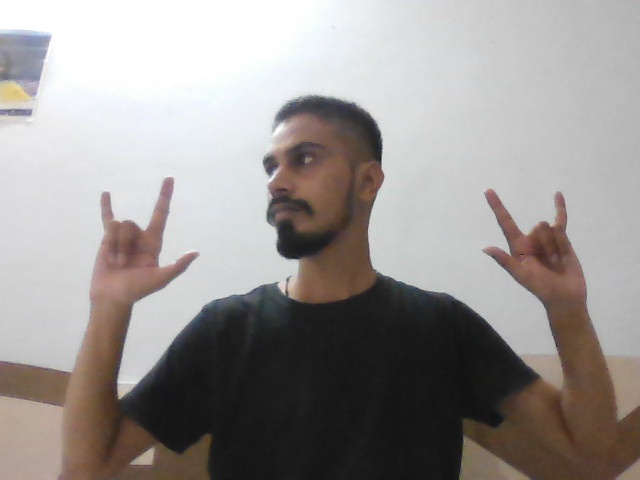ILoveYou: (82, 157, 202, 302)
